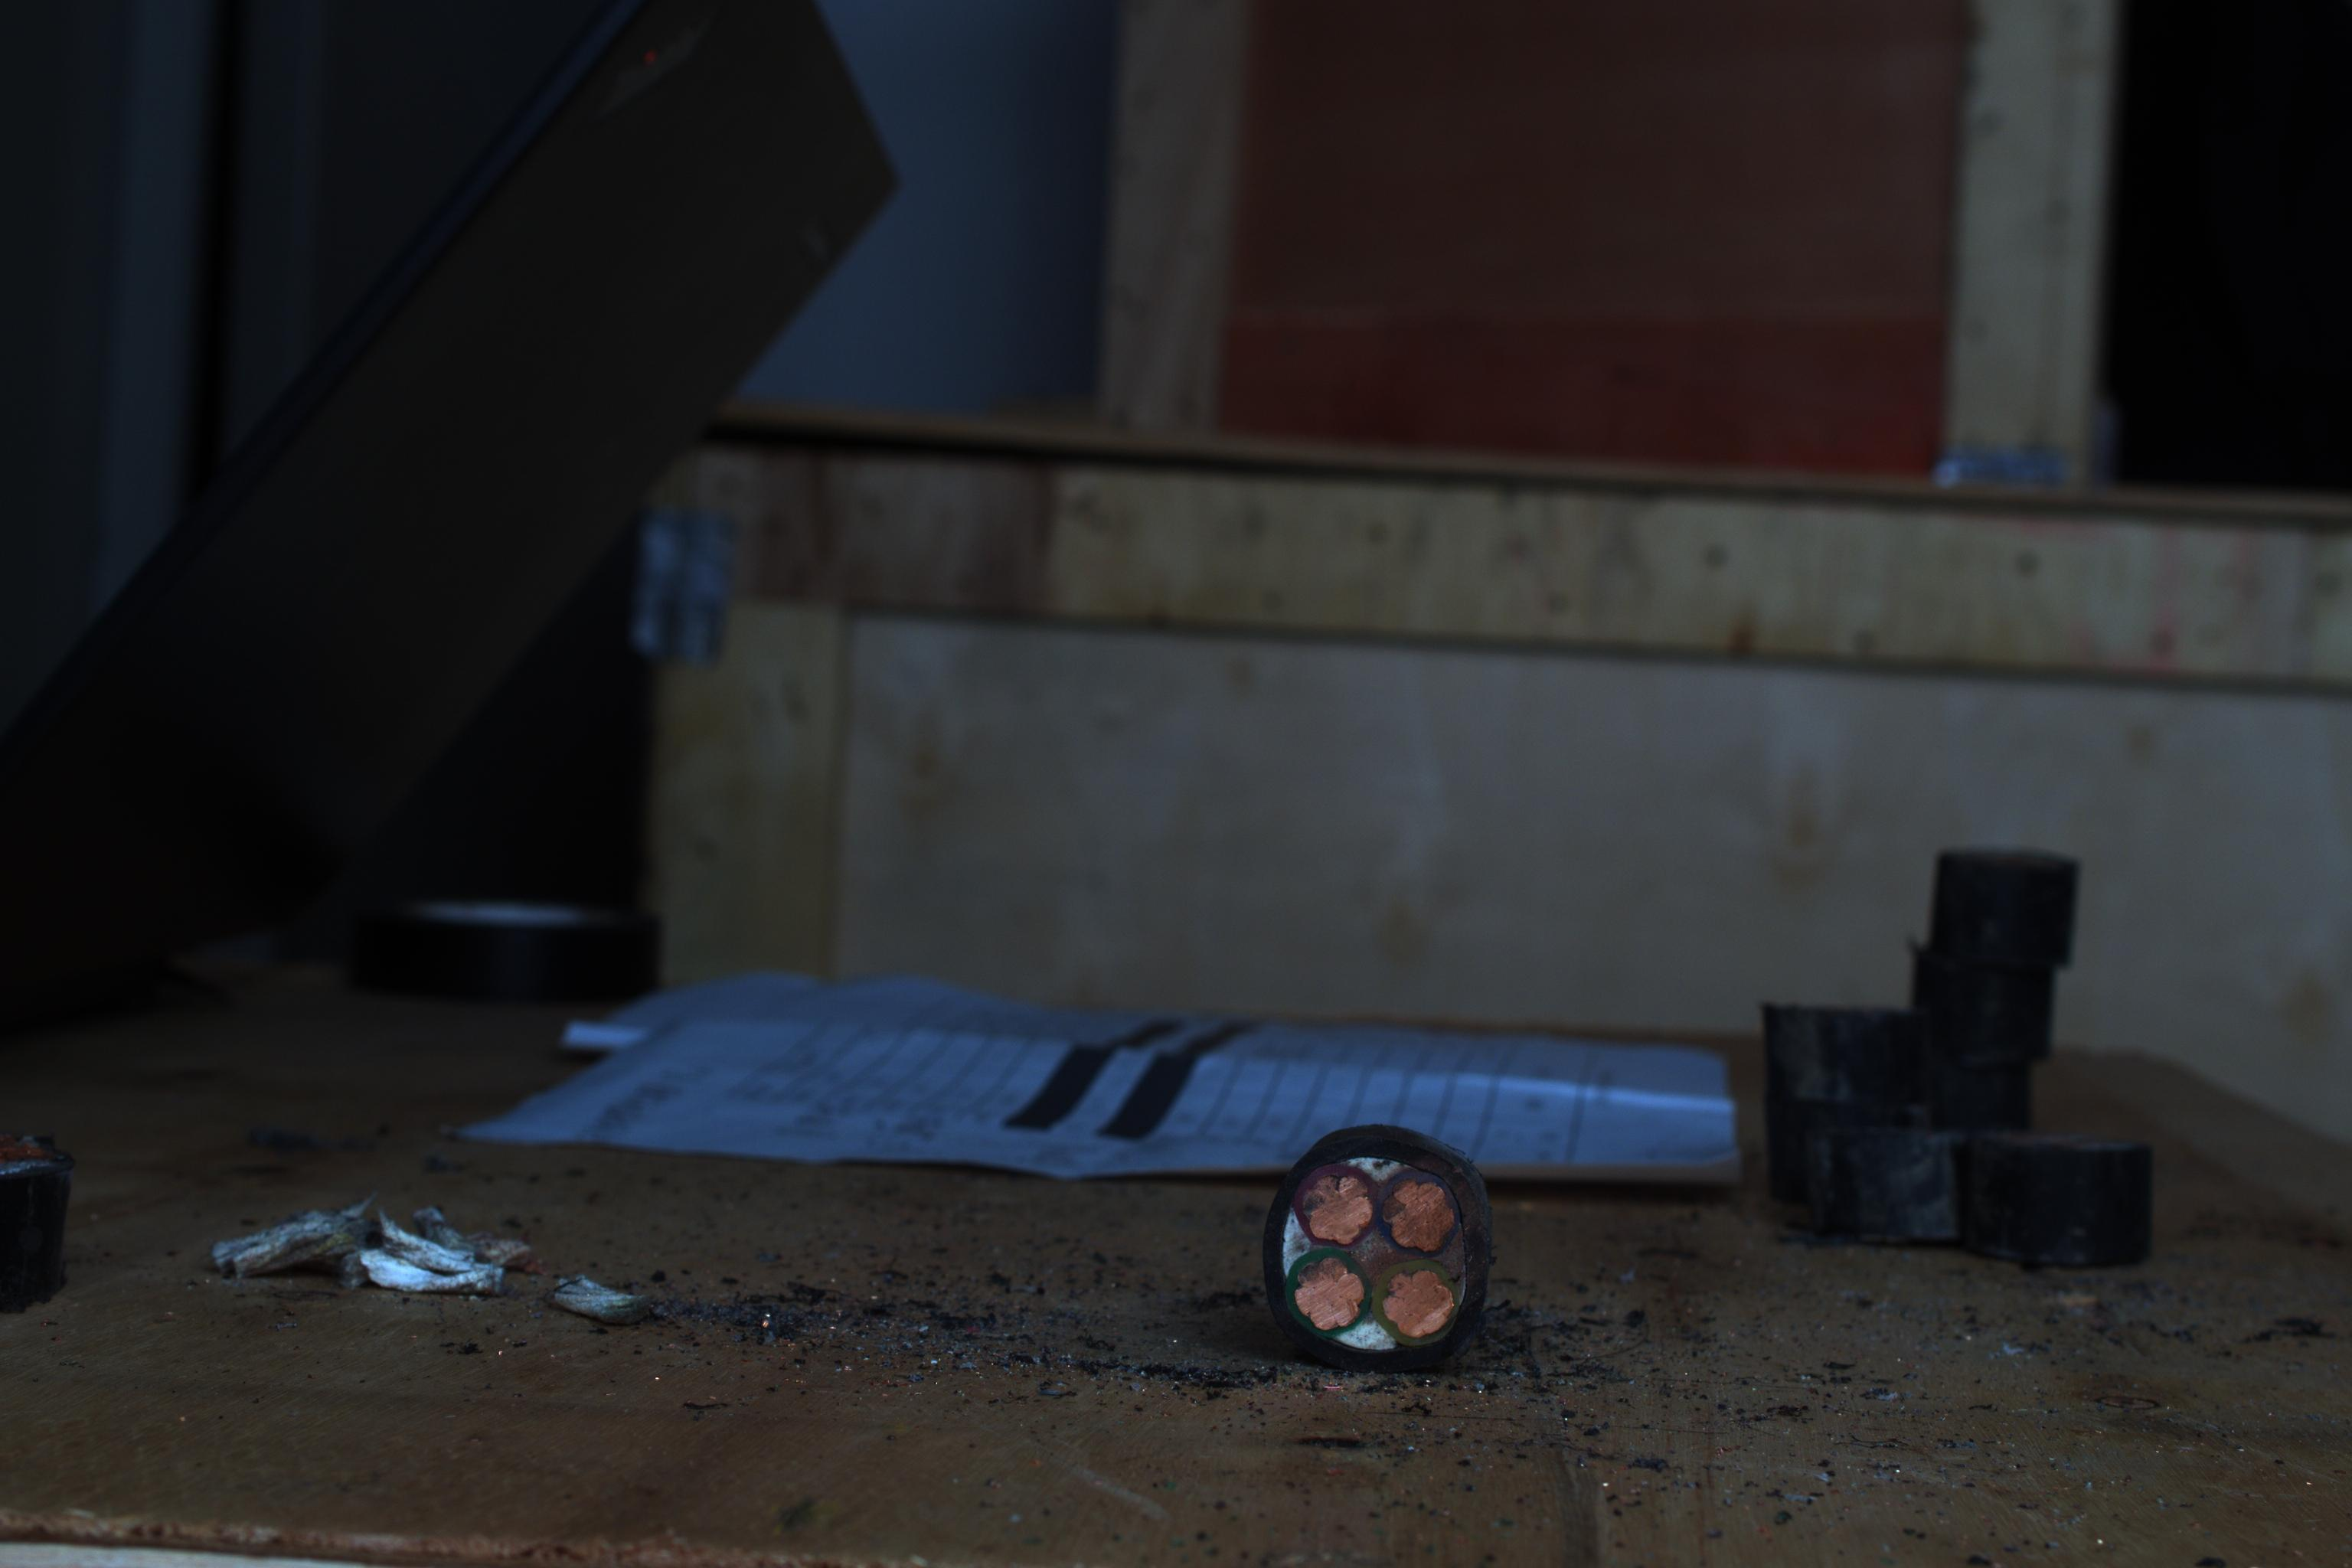YJV_0.6_1kV_4x35: (1255, 1115, 1517, 1389)
